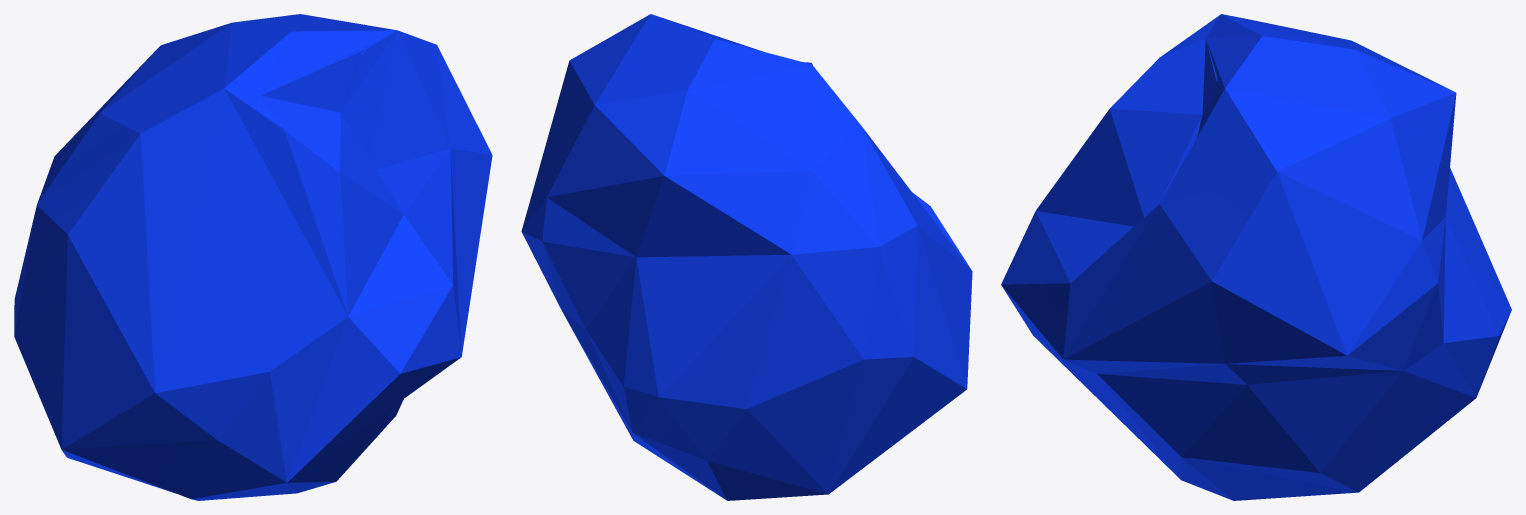
Rendered from SM_emissive_rock_12.fbx.
3 renders of one model, left to right at view 1: azimuth 30°, elevation 25°; view 2: azimuth 150°, elevation 25°; view 3: azimuth 270°, elevation 25°, orthographic. The views are drawn at different scales.
Parts seen in each view (by area): view 1: emissive_rock_12; view 2: emissive_rock_12; view 3: emissive_rock_12.
Part boxes in pixels (x1,y1,x2,y2): emissive_rock_12: (14,14,492,500); emissive_rock_12: (521,14,972,500); emissive_rock_12: (1001,14,1511,500).
Bounding box in the file's own units: 135 × 135 × 133.
